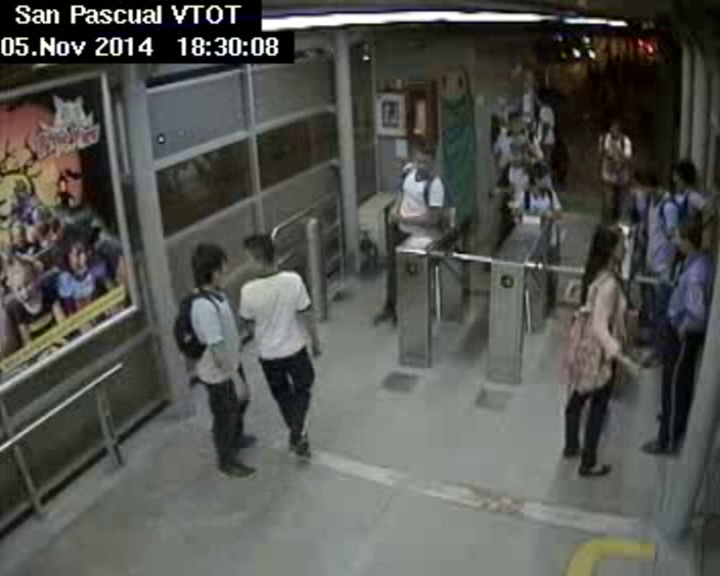person: (193, 243, 239, 294), (244, 230, 284, 276), (588, 219, 626, 266), (662, 208, 703, 249), (403, 141, 434, 178), (667, 158, 697, 191), (632, 166, 665, 195), (528, 160, 552, 187), (487, 111, 507, 140), (508, 143, 530, 166), (507, 109, 526, 135), (605, 116, 627, 138), (531, 88, 554, 109)
